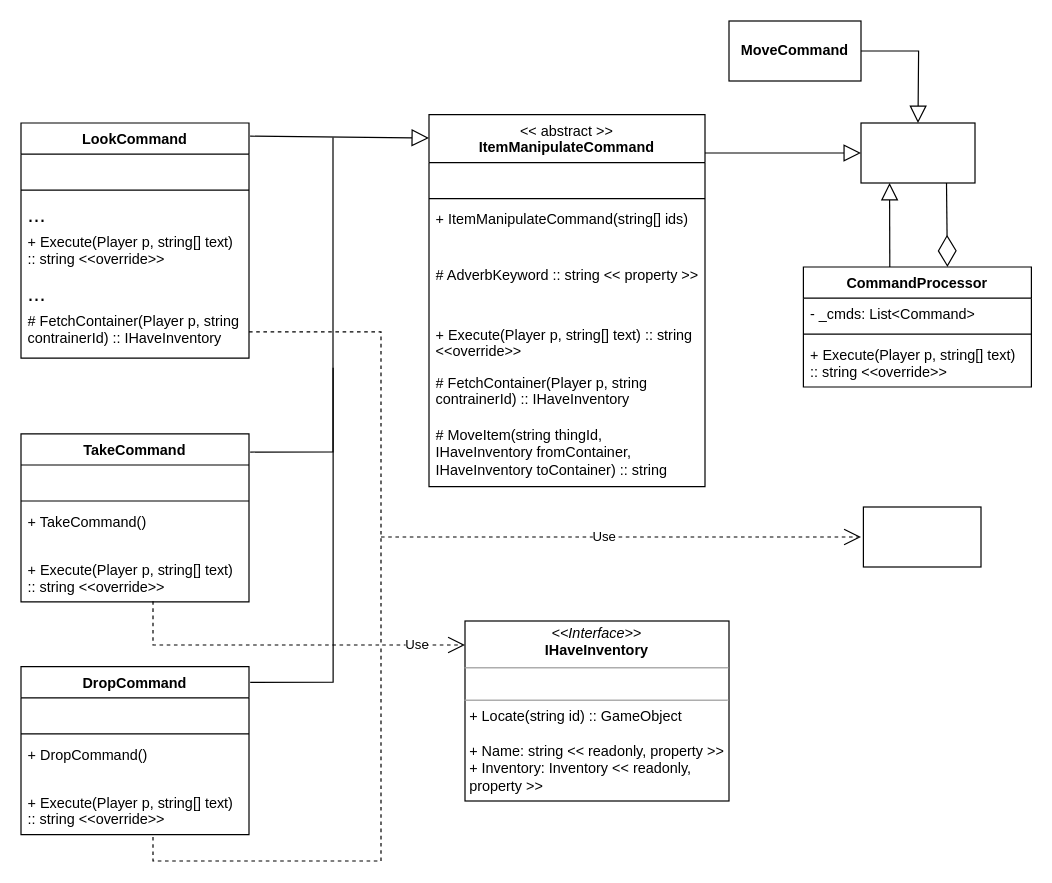
Image size: 1052x883. Some labels were removed from this diagram. Here are the shapes that lost their labels. From the top down, the centre of each, then its label:
At point (917, 152): "<<abstract>> Command".
At point (921, 536): "GameObject".
